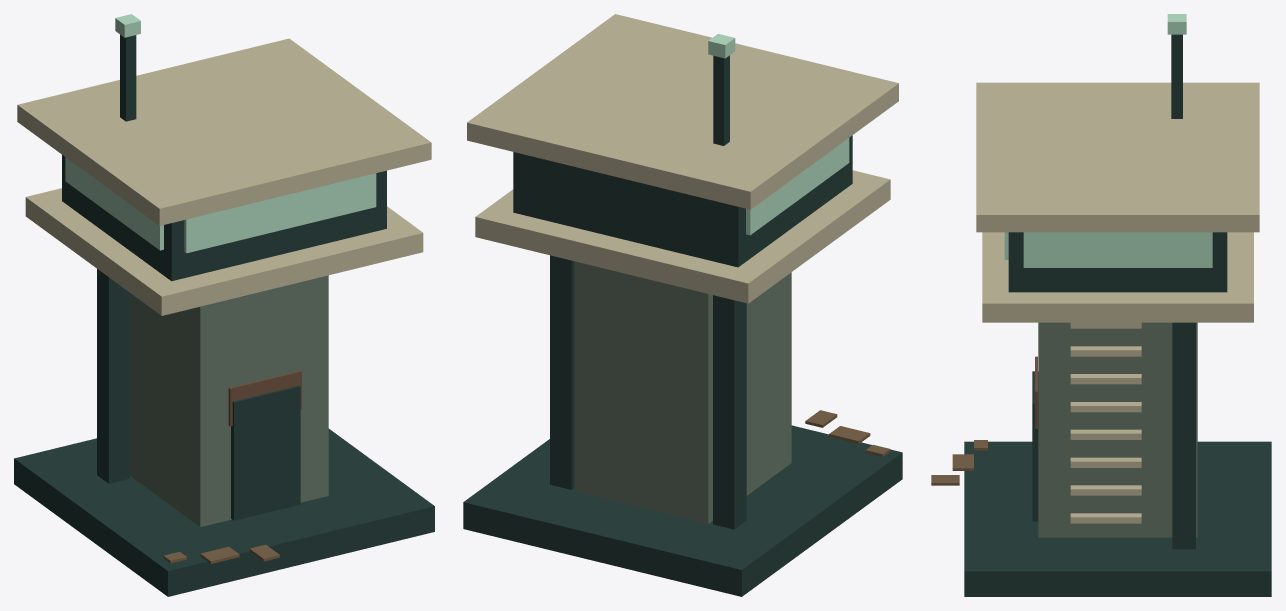
Rendered from tower-weathered.glb.
3 views of the same model, side by side, from view 1: azimuth 30°, elevation 25°; view 2: azimuth 150°, elevation 25°; view 3: azimuth 270°, elevation 25° (orthographic). The views are drawn at different scales.
Visible parts, largest first — view 1: tower-weathered; view 2: tower-weathered; view 3: tower-weathered.
Part boxes in pixels (bbox=[...]): tower-weathered: bbox=[14, 14, 434, 596]; tower-weathered: bbox=[463, 14, 902, 596]; tower-weathered: bbox=[931, 14, 1271, 596].
Size of the model in its own units: 2.65 by 4.5 by 2.88.
